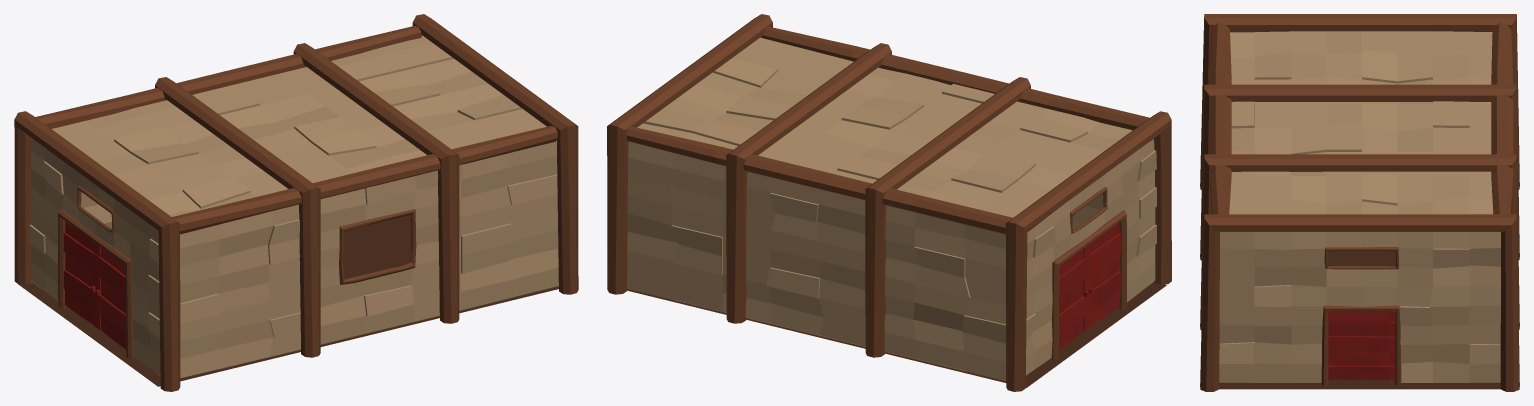
Rendered from sarai_model.glb.
3 renders of one model, left to right at view 1: azimuth 30°, elevation 25°; view 2: azimuth 150°, elevation 25°; view 3: azimuth 270°, elevation 25°, orthographic. The views are drawn at different scales.
Parts seen in each view (by area): view 1: Cube, Cylinder.001, floor, left door, right door; view 2: Cube, Cylinder.001, right door, floor, left door; view 3: Cube, Cylinder.001, backdoor.001, floor.
Part boxes in pixels (x1,y1,x2,y2): Cube: (29,35,558,379); Cylinder.001: (14,14,578,391); floor: (17,215,558,386); left door: (63,221,96,327); right door: (96,244,126,349); Cube: (627,37,1156,381); Cylinder.001: (607,14,1171,391); right door: (1087,222,1121,329); floor: (627,282,1166,387); left door: (1058,246,1088,350); Cube: (1219,31,1500,382); Cylinder.001: (1200,14,1519,391); backdoor.001: (1328,311,1395,380); floor: (1219,251,1500,389).
Size of the model in its own units: 15.69 by 6 by 10.11.
Materials: 5 (5 with a texture image).
